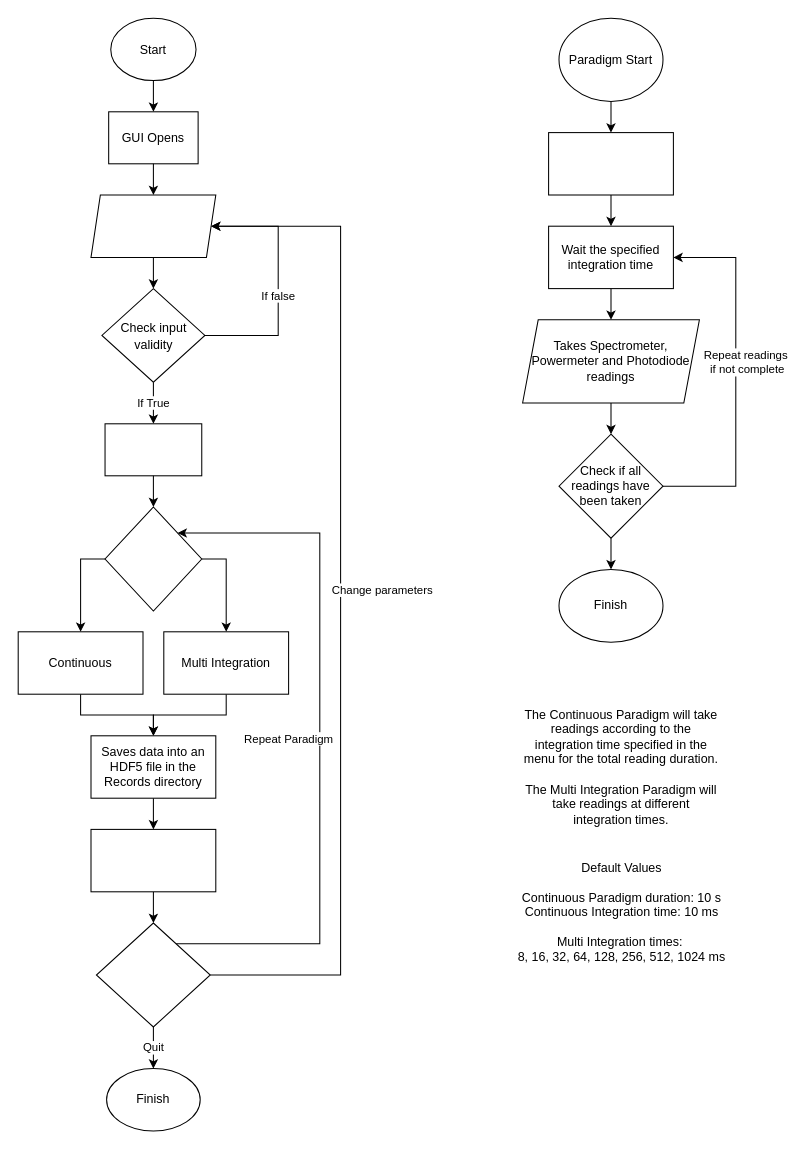
This 808x1149 diagram has some shape labels left out. Here are the shapes that lost their labels. From the top down, the centre of each, then its label:
At [610,163]: "Initialises Spectrometer parameters".
At [153,225]: "Input desired parameters".
At [153,449]: "Initialise variables / Does speed tests".
At [153,558]: "Which paradigm?".
At [153,860]: "Generates output plots".
At [152,974]: "Choose what to do next".
